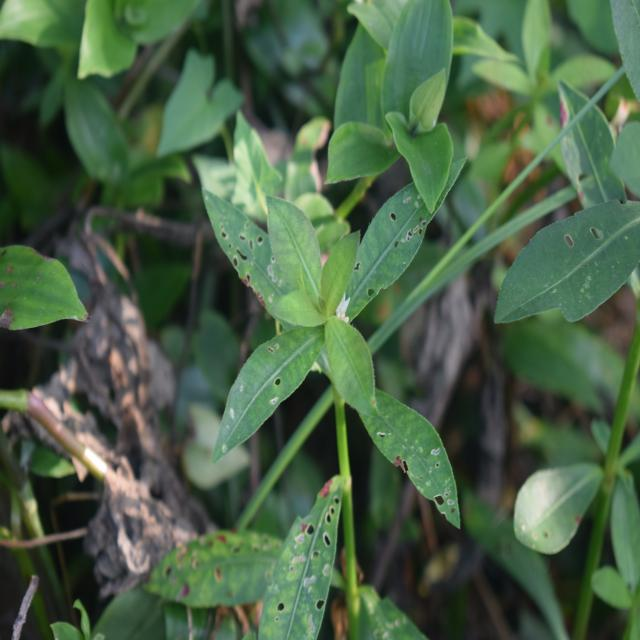Alligatorweed: (192, 157, 437, 499)
